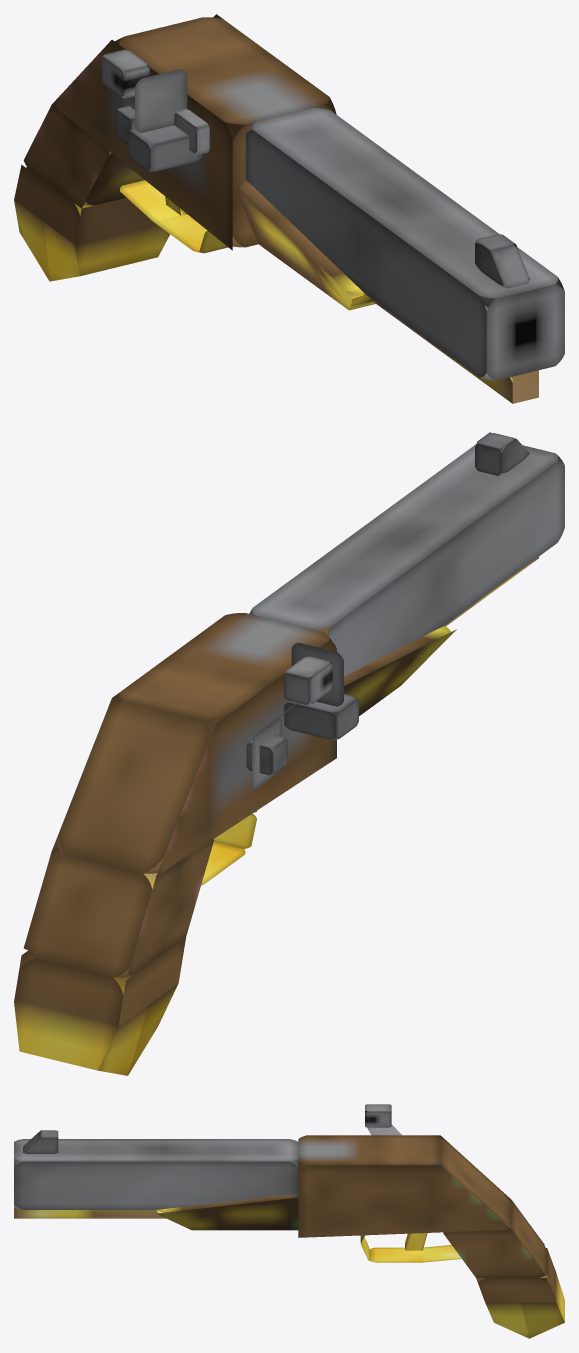
File: flintlock.obj
3 views of the same model, one above another, from view 1: azimuth 30°, elevation 25°; view 2: azimuth 150°, elevation 25°; view 3: azimuth 270°, elevation 25° (orthographic). The views are drawn at different scales.
Parts seen in each view (by area): view 1: cuboid, flashpan, hammer, ram_rod; view 2: cuboid, hammer, flashpan; view 3: cuboid, ram_rod, hammer, trigger.
Part boxes in pixels (bbox=[...]): cuboid: bbox=[14, 14, 564, 380]; flashpan: bbox=[135, 69, 209, 154]; hammer: bbox=[101, 49, 149, 145]; ram_rod: bbox=[364, 294, 538, 403]; cuboid: bbox=[14, 432, 564, 1075]; hammer: bbox=[246, 656, 332, 789]; flashpan: bbox=[291, 642, 343, 706]; cuboid: bbox=[14, 1130, 564, 1338]; ram_rod: bbox=[14, 1207, 165, 1218]; hammer: bbox=[365, 1104, 401, 1135]; trigger: bbox=[405, 1233, 427, 1250].
Bounding box in the file's own units: 0.0938 × 0.1875 × 0.4844.
